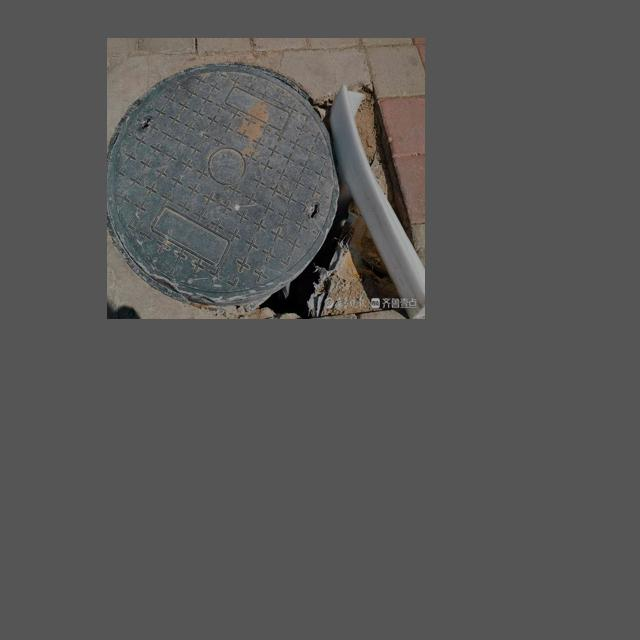circle: (112, 64, 400, 311)
